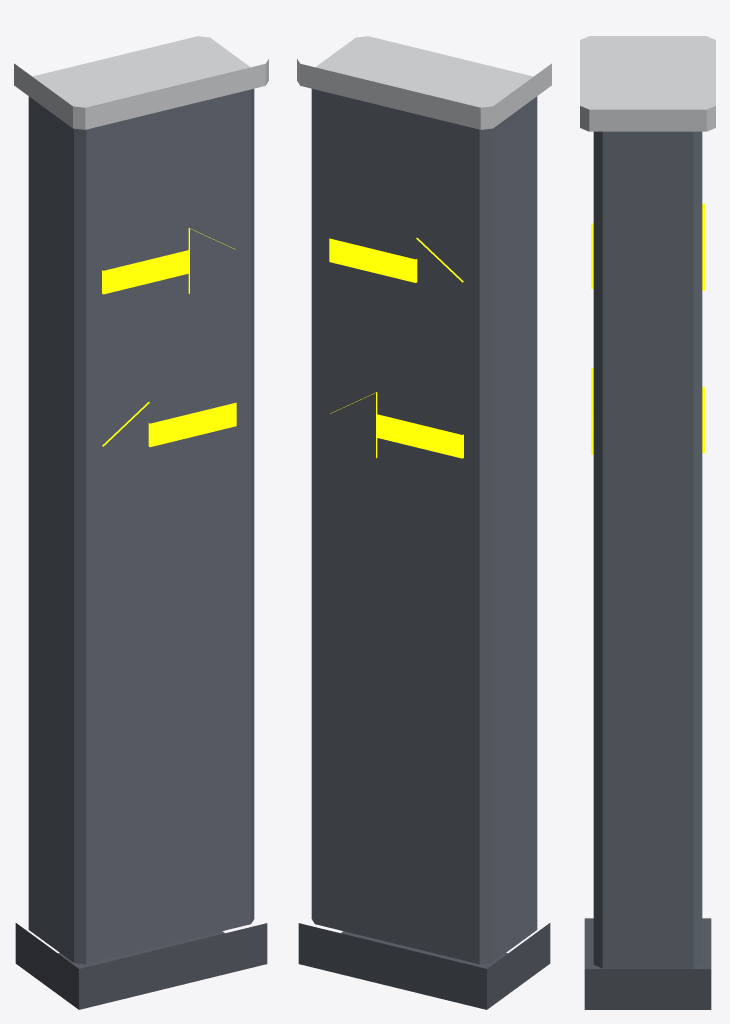
The model's file is ext_wayfinding_totem_01.glb.
3 views of the same model, side by side, from view 1: azimuth 30°, elevation 25°; view 2: azimuth 150°, elevation 25°; view 3: azimuth 270°, elevation 25° (orthographic).
Visible parts, largest first — view 1: Slab, Cap, Plinth, Arrows; view 2: Slab, Cap, Plinth, Arrows; view 3: Slab, Cap, Plinth, Arrows.
Boxes of the visible parts, <box> form: Slab: <box>28,89,254,964</box>; Cap: <box>14,36,268,129</box>; Plinth: <box>15,923,267,1009</box>; Arrows: <box>102,228,236,447</box>; Slab: <box>311,89,537,964</box>; Cap: <box>297,36,551,129</box>; Plinth: <box>298,923,550,1009</box>; Arrows: <box>329,237,463,458</box>; Slab: <box>593,131,702,968</box>; Cap: <box>580,36,715,131</box>; Plinth: <box>584,918,711,1009</box>; Arrows: <box>591,203,704,454</box>.
Size of the model in its own units: 0.5 by 2.2 by 0.3.
